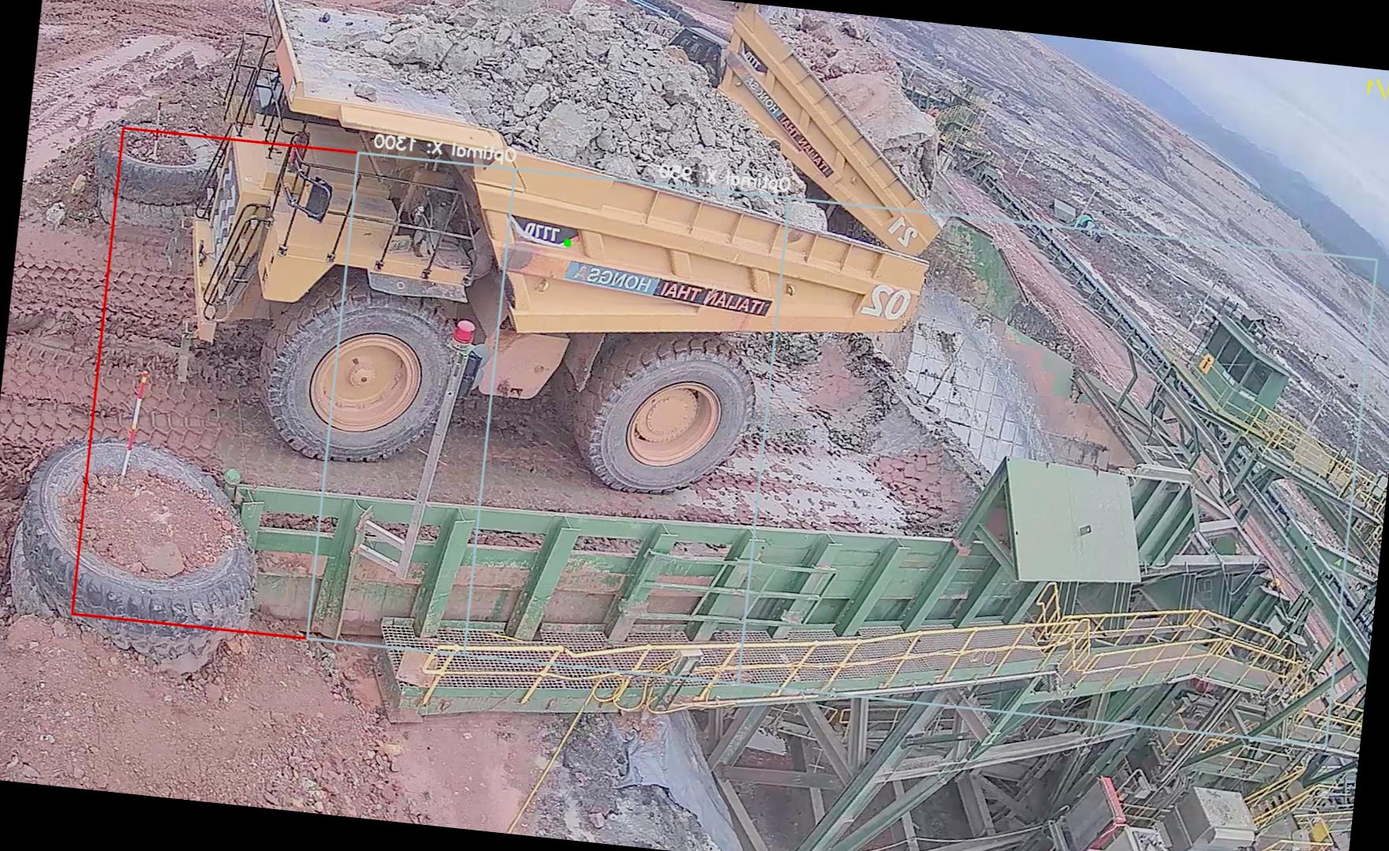company: (551, 257, 782, 328)
full_load: (448, 0, 795, 206)
mining_truck: (158, 0, 969, 520)
tail_number: (848, 275, 923, 329)
truck_size: (503, 210, 576, 253)
